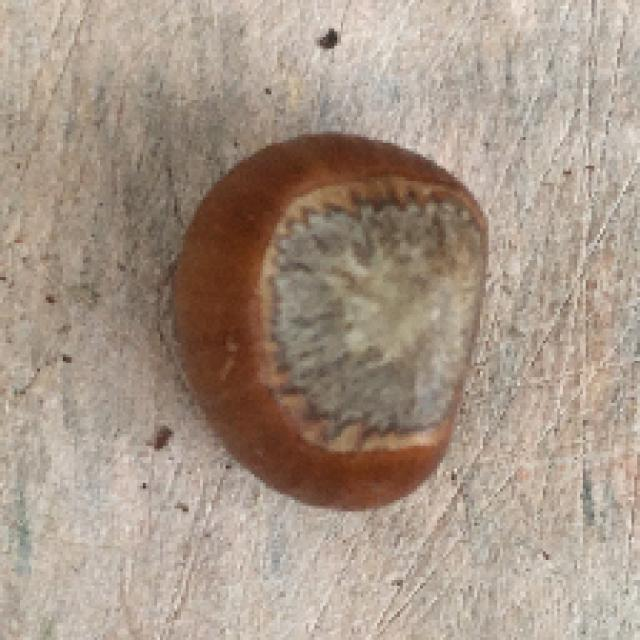qualityHazelnut: (162, 132, 494, 515)
